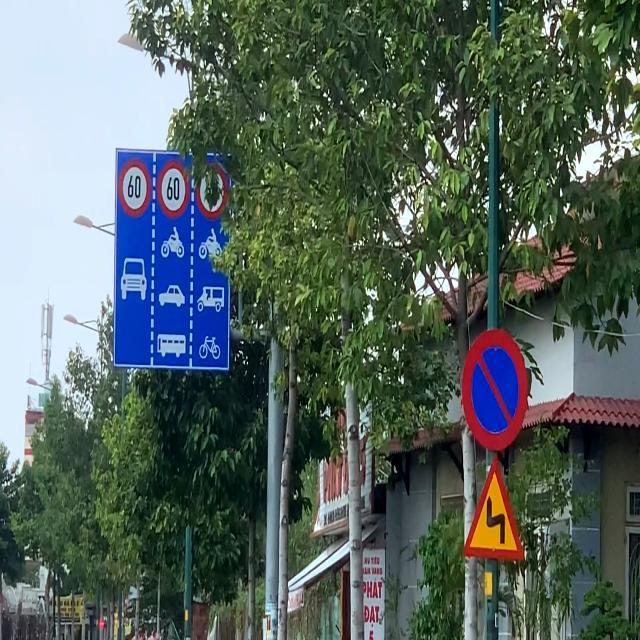P-131a: (461, 328, 528, 453)
W-202a: (461, 456, 522, 564)
